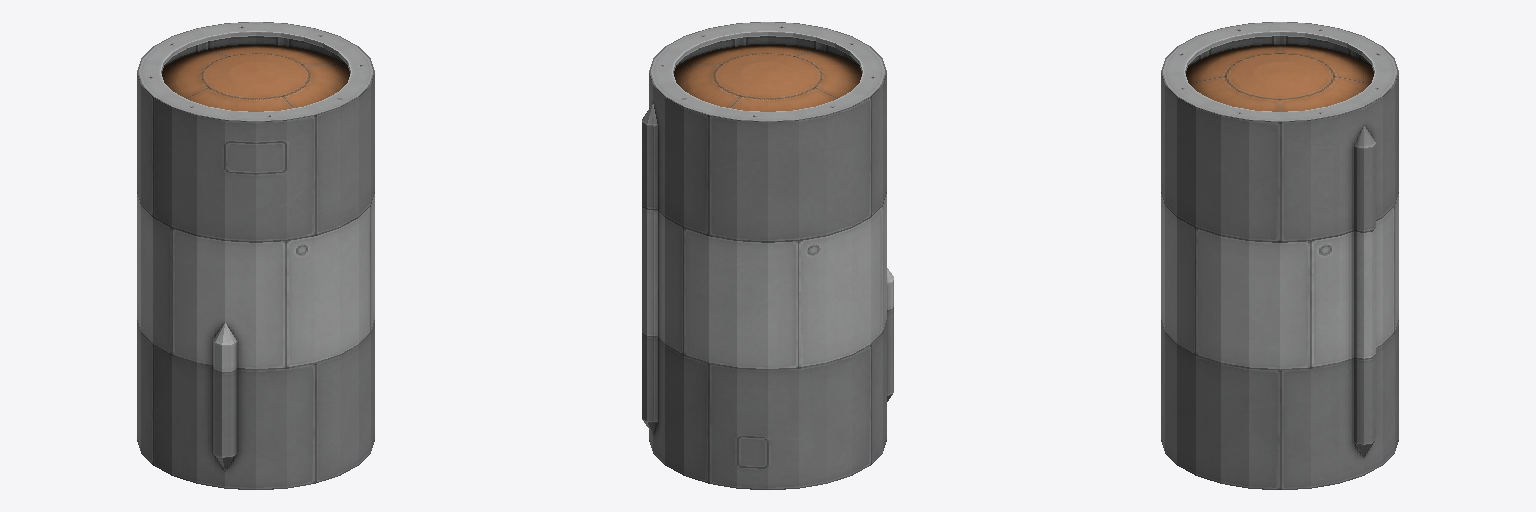
3 views of the same model, side by side, from view 1: azimuth 30°, elevation 25°; view 2: azimuth 150°, elevation 25°; view 3: azimuth 270°, elevation 25° (orthographic).
Visible parts, largest first — view 1: TLV_2_LFO_1_E; view 2: TLV_2_LFO_1_E; view 3: TLV_2_LFO_1_E.
Boxes of the visible parts, box(x1,y1,x2,y2) form: TLV_2_LFO_1_E: box(137, 22, 374, 489); TLV_2_LFO_1_E: box(642, 22, 893, 489); TLV_2_LFO_1_E: box(1161, 22, 1398, 489).
Bounding box in the file's own units: 1.5 × 2.56 × 1.5.
1 materials, 1 textured.